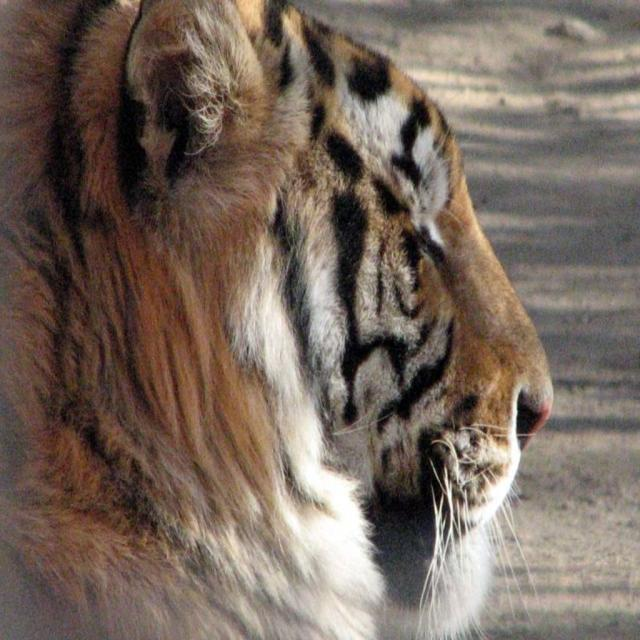Tiger: (0, 0, 554, 640)
